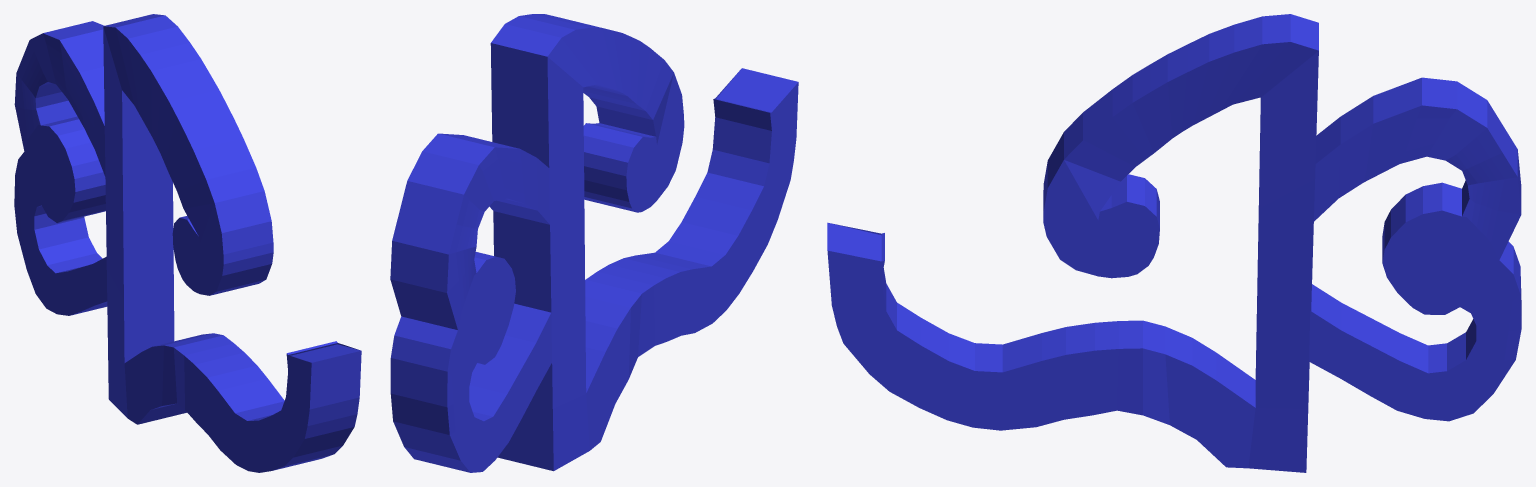
The picture shows the model from 3 angles, left to right: view 1: azimuth 30°, elevation 25°; view 2: azimuth 150°, elevation 25°; view 3: azimuth 270°, elevation 25°; orthographic projection. The views are drawn at different scales.
Parts seen in each view (by area): view 1: Cube; view 2: Cube; view 3: Cube.
Part boxes in pixels (x1,y1,x2,y2): Cube: (14, 14, 361, 472); Cube: (390, 14, 798, 472); Cube: (827, 14, 1521, 472).
Bounding box in the file's own units: 231 × 1441 × 2103.
